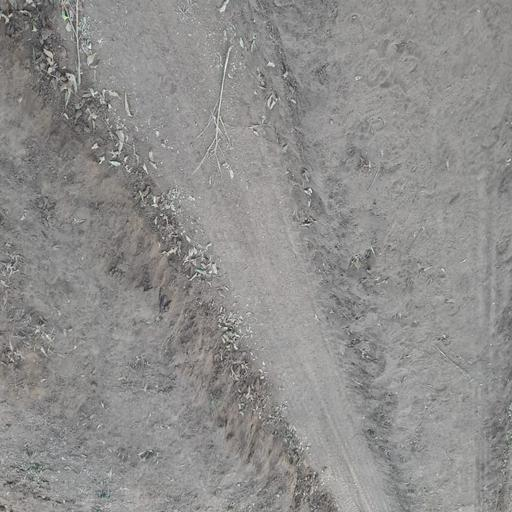vehicle_track: (46, 0, 396, 512)
